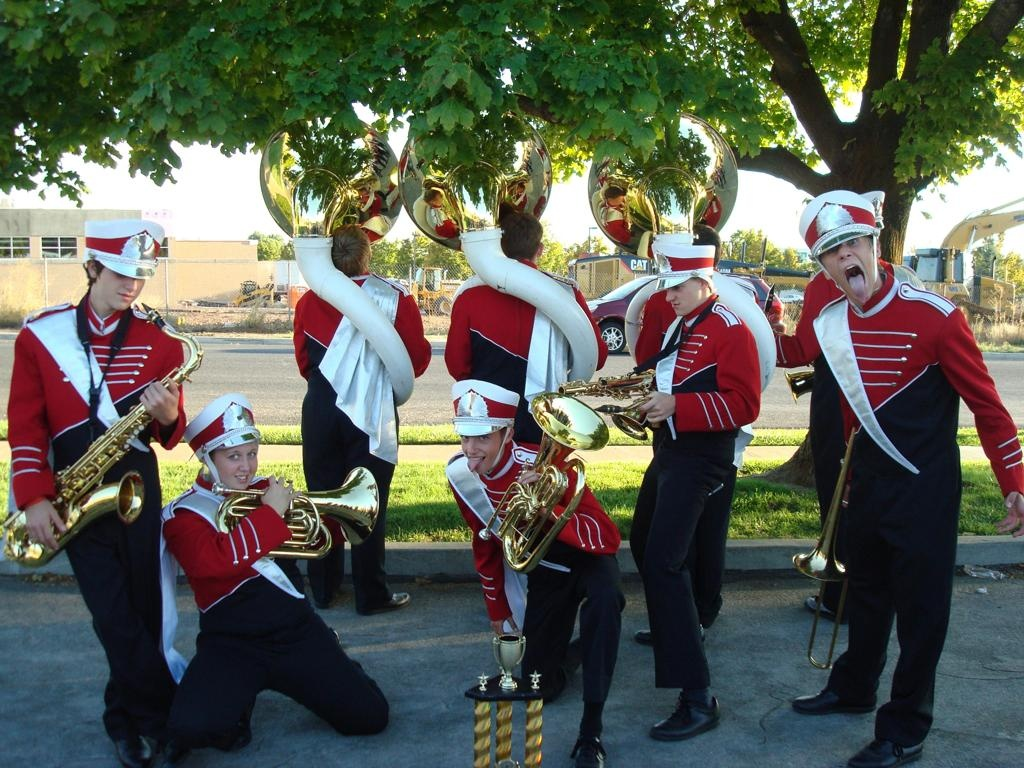human_face: (818, 226, 874, 290), (212, 436, 258, 490), (98, 258, 144, 310), (460, 425, 500, 473), (665, 265, 701, 315)
